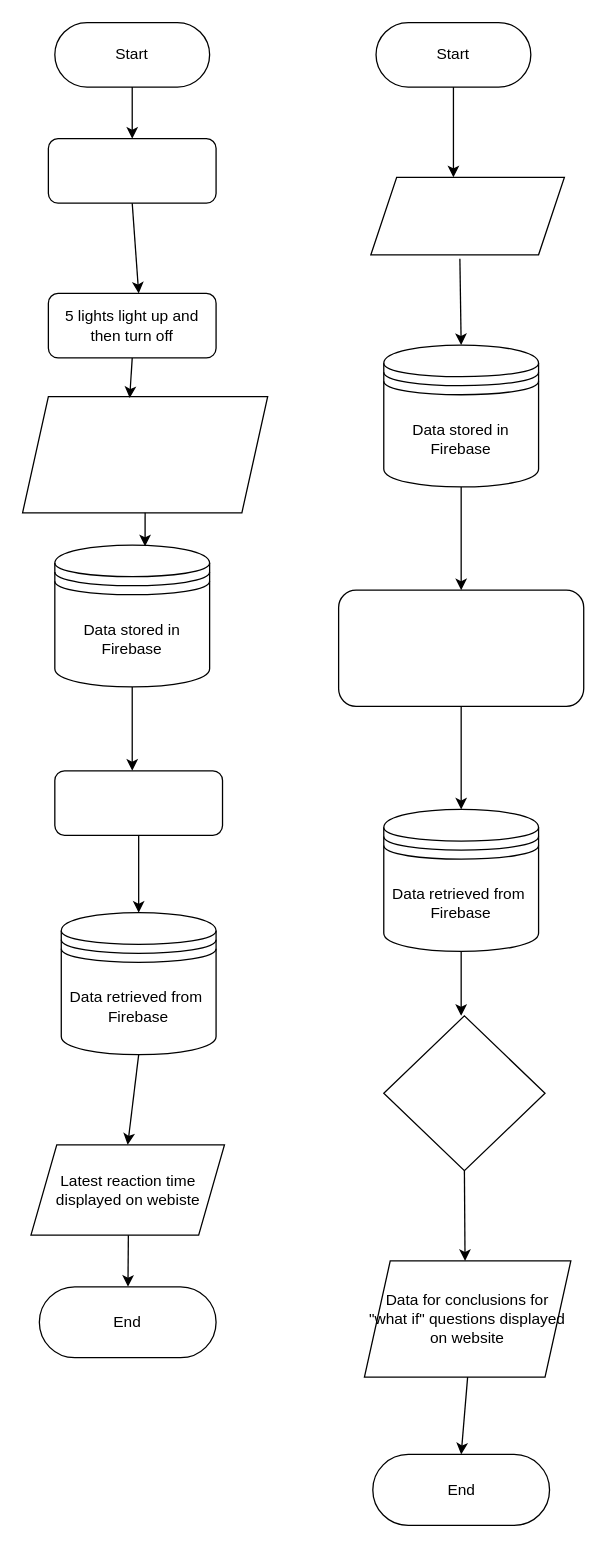
Some shapes in this 606 by 1548 pixel diagram are drawn without their labels. The shapes that lost their labels are listed below. From the top down, each one's centre as x and y in pixels, then its label:
[131,170]: Button on Microbit pressed
[467,215]: User inputs age and gender on website form
[144,454]: User presses microbit button again, reaction time recorded
[460,647]: User presses "show" button on webiste
[138,802]: User presses button on website
[463,1093]: intermittent decisions
